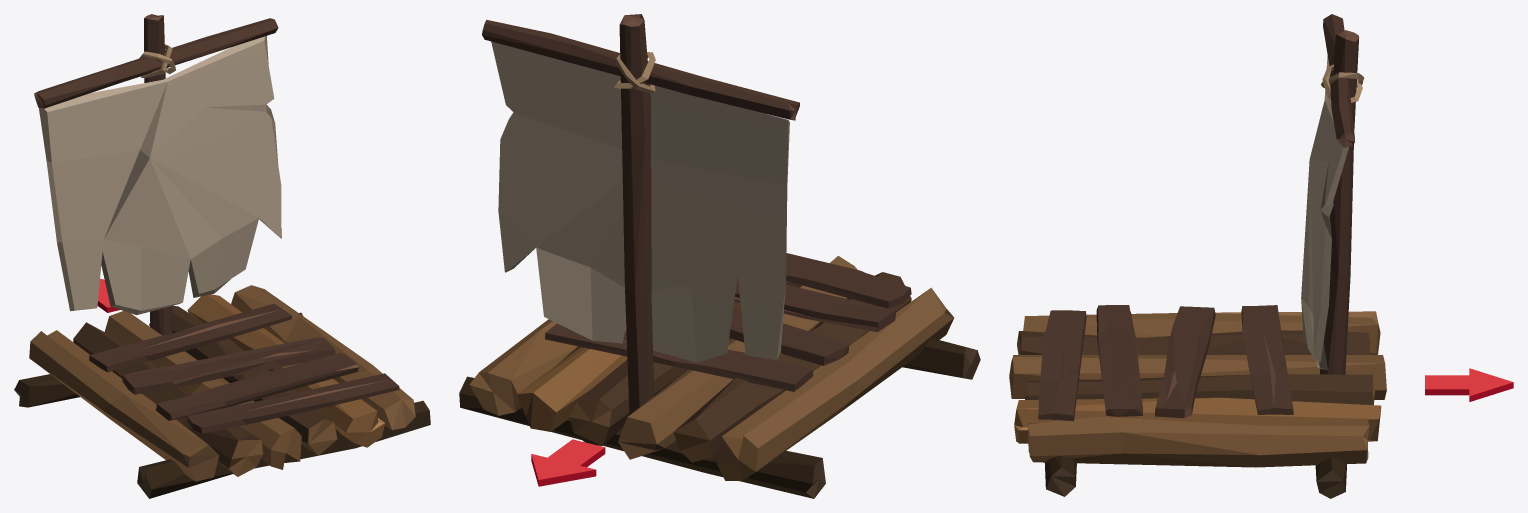
File: Raft.glb
3 views of the same model, side by side, from view 1: azimuth 30°, elevation 25°; view 2: azimuth 150°, elevation 25°; view 3: azimuth 270°, elevation 25° (orthographic). The views are drawn at different scales.
Visible parts, largest first — view 1: Raft_01; view 2: Raft_01, Plane.003; view 3: Raft_01, Plane.003.
Part boxes in pixels (<box>): Raft_01: <box>14,14,430,498</box>; Raft_01: <box>459,14,980,498</box>; Plane.003: <box>531,439,605,486</box>; Raft_01: <box>1009,14,1386,498</box>; Plane.003: <box>1425,368,1513,401</box>.
Size of the model in its own units: 3.77 by 4.51 by 5.26.
2 materials, 2 textured.
